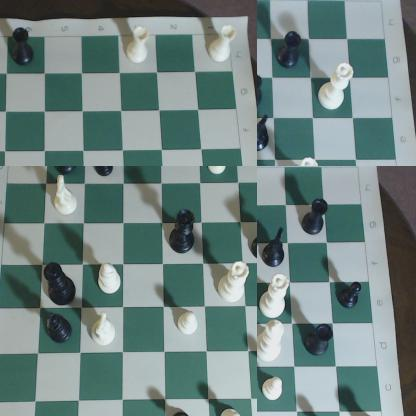black-bishop: (46, 313, 76, 348)
black-king: (43, 257, 80, 310)
black-knight: (262, 230, 290, 271), (258, 117, 274, 157)
black-pawn: (340, 282, 369, 316), (92, 167, 117, 179), (170, 408, 195, 416)
black-queen: (169, 210, 200, 258)
black-rook: (11, 27, 39, 72), (302, 198, 331, 240), (305, 323, 336, 361), (278, 31, 305, 73), (258, 65, 270, 117), (47, 167, 80, 177)
white-bishop: (96, 258, 127, 300)
white-king: (258, 319, 289, 364)
white-knight: (53, 176, 81, 217), (92, 313, 118, 348)
white-pawn: (177, 309, 202, 341), (261, 378, 287, 405), (216, 395, 247, 416), (204, 167, 238, 186)
white-queen: (316, 60, 356, 115), (217, 258, 251, 307), (260, 276, 291, 319), (286, 157, 324, 166)
white-rook: (210, 23, 241, 68), (127, 25, 152, 71)
